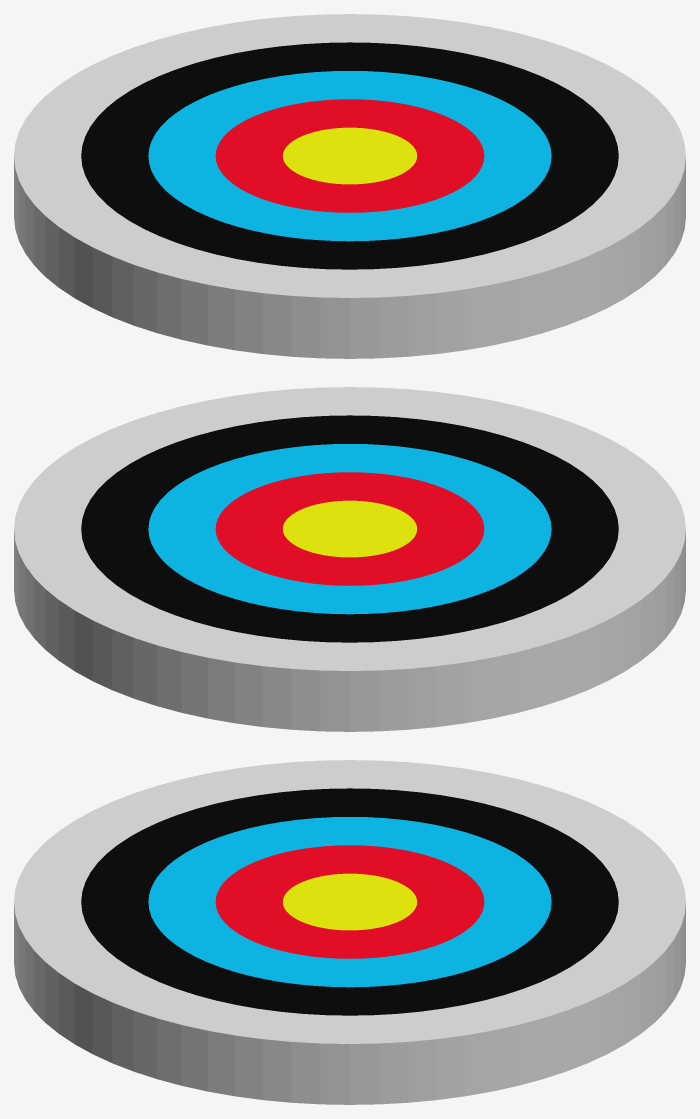
The model's file is target_board_furko.glb.
3 views of the same model, one above another, from view 1: azimuth 30°, elevation 25°; view 2: azimuth 150°, elevation 25°; view 3: azimuth 270°, elevation 25° (orthographic).
Visible parts, largest first — view 1: Outer, Inner 1, Inner 2, Inner 3, Inner 4; view 2: Outer, Inner 1, Inner 2, Inner 3, Inner 4; view 3: Outer, Inner 1, Inner 2, Inner 3, Inner 4.
Part boxes in pixels (<box>): Outer: <box>14,14,685,358</box>; Inner 1: <box>81,42,618,269</box>; Inner 2: <box>148,71,551,241</box>; Inner 3: <box>215,99,484,212</box>; Inner 4: <box>283,127,416,184</box>; Outer: <box>14,387,685,731</box>; Inner 1: <box>81,415,618,642</box>; Inner 2: <box>148,444,551,614</box>; Inner 3: <box>215,472,484,585</box>; Inner 4: <box>283,500,416,557</box>; Outer: <box>14,760,685,1104</box>; Inner 1: <box>81,788,618,1015</box>; Inner 2: <box>148,817,551,987</box>; Inner 3: <box>215,845,484,958</box>; Inner 4: <box>283,873,416,930</box>.
Size of the model in its own units: 4 by 0.4 by 4.
